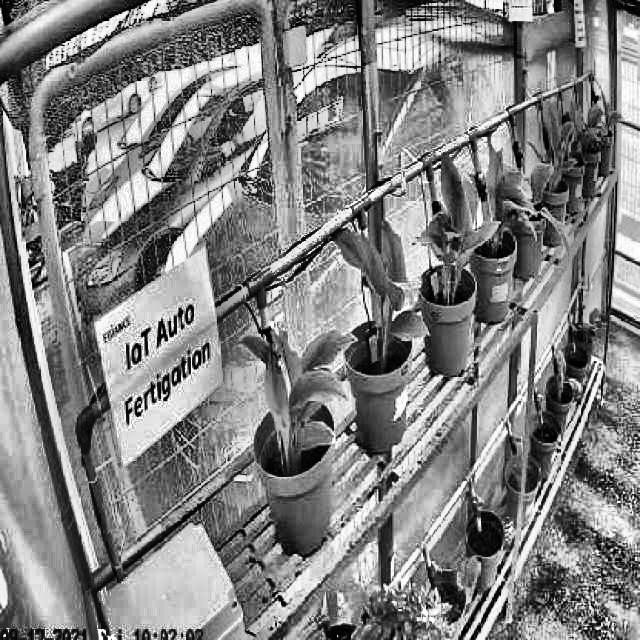plants: (241, 324, 356, 468), (334, 218, 430, 358), (418, 156, 494, 292), (479, 148, 538, 252), (538, 103, 574, 194)
